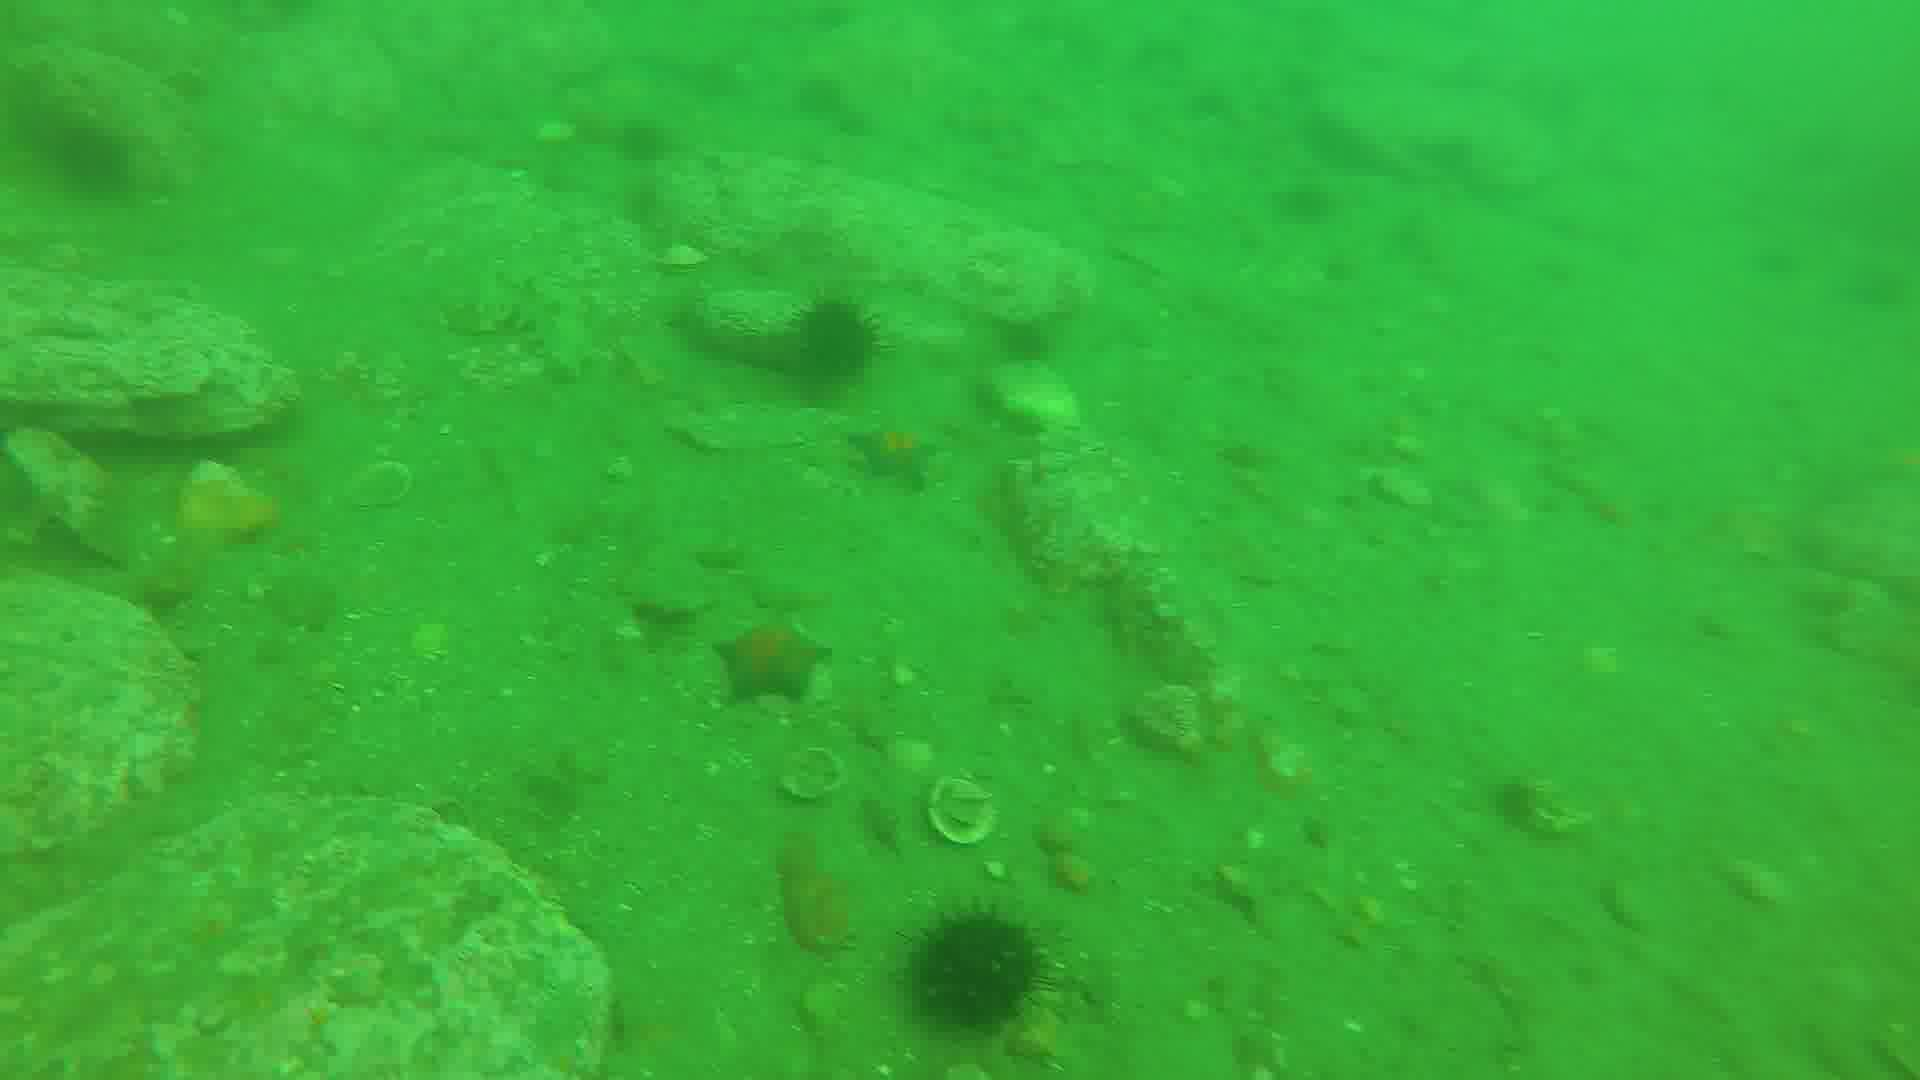echinus: (916, 909, 1054, 1029), (810, 294, 876, 377), (65, 125, 131, 198)
holothurian: (479, 208, 593, 386)
scallop: (931, 771, 1011, 848), (1131, 684, 1212, 758), (779, 744, 856, 808), (344, 459, 415, 516), (647, 232, 711, 285)
starfish: (717, 617, 831, 702), (853, 419, 942, 491)
